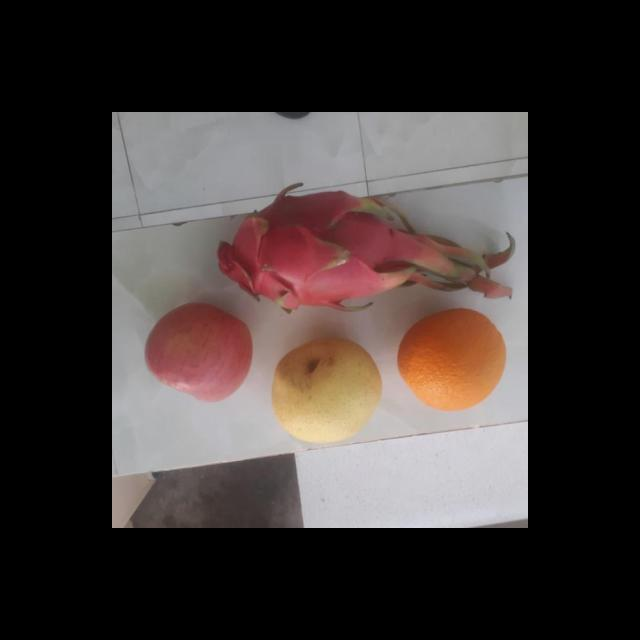apple: (140, 304, 257, 408)
orange: (392, 310, 509, 413)
pear: (265, 337, 385, 443)
pitaya: (202, 186, 418, 318)
